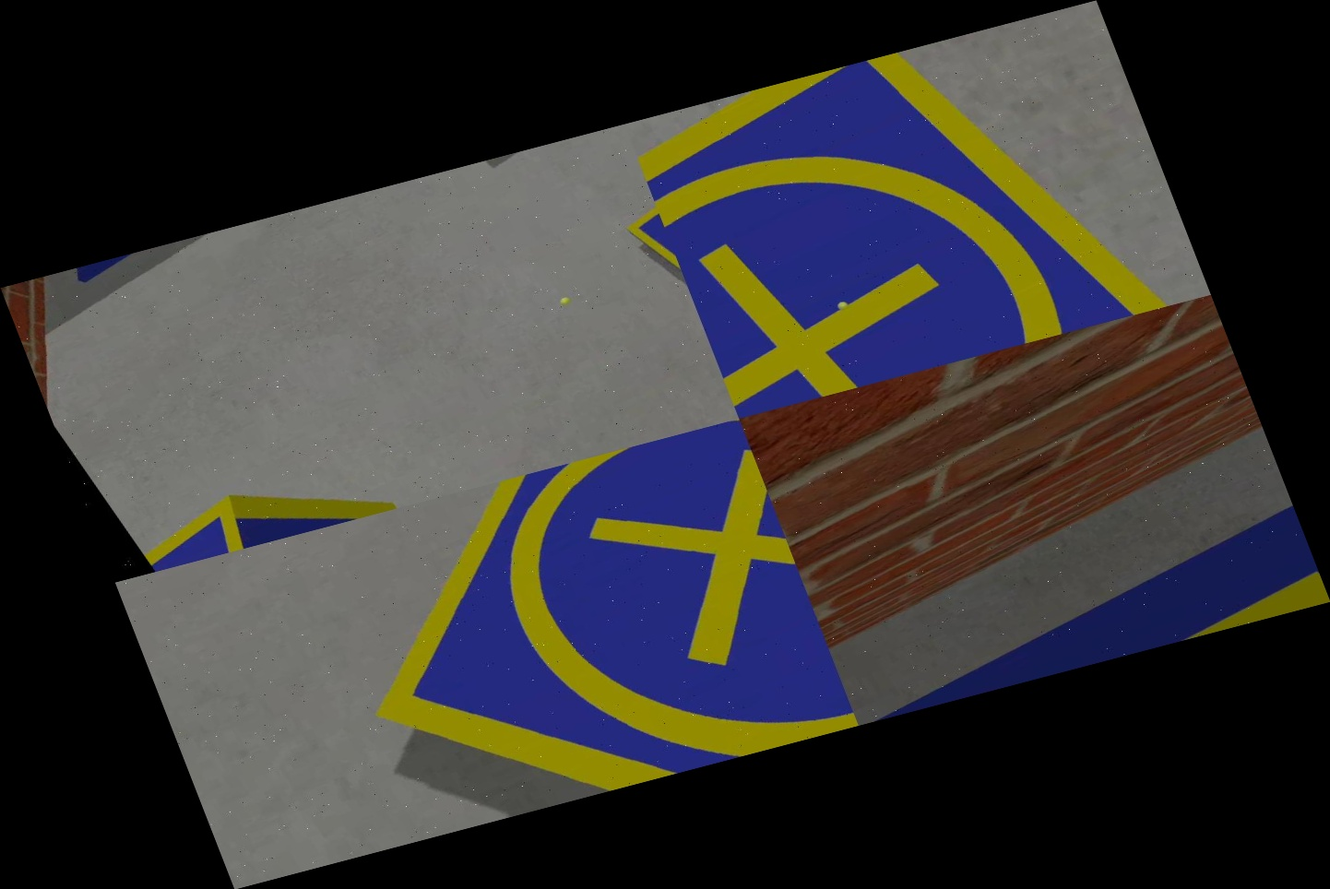large_base: (814, 488, 1330, 725)
small_base: (250, 419, 859, 853), (624, 0, 1210, 419), (125, 482, 291, 574)
